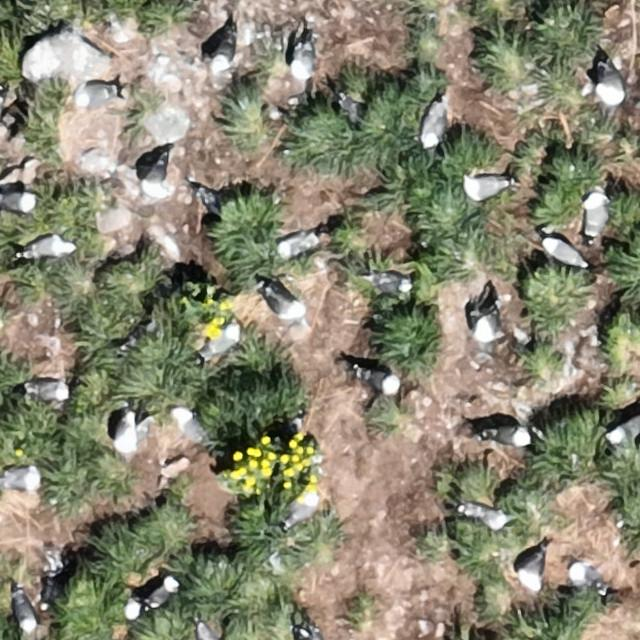umineko: (592, 57, 632, 105), (143, 154, 175, 201), (168, 407, 208, 442), (289, 35, 316, 84), (568, 565, 608, 594), (475, 311, 509, 345), (543, 238, 582, 265), (205, 327, 240, 356), (423, 103, 446, 146), (115, 410, 136, 455), (360, 369, 399, 393), (287, 496, 318, 526), (147, 578, 176, 608), (465, 178, 506, 199), (366, 272, 409, 292), (14, 594, 36, 633), (488, 428, 530, 448), (26, 236, 68, 256), (2, 468, 40, 490), (470, 507, 508, 529), (518, 554, 542, 588), (76, 85, 113, 107), (279, 232, 314, 255), (30, 380, 70, 400), (586, 196, 606, 236), (105, 600, 140, 620), (608, 420, 639, 442), (3, 192, 36, 212), (215, 36, 234, 68), (339, 94, 359, 119), (197, 623, 220, 639)
